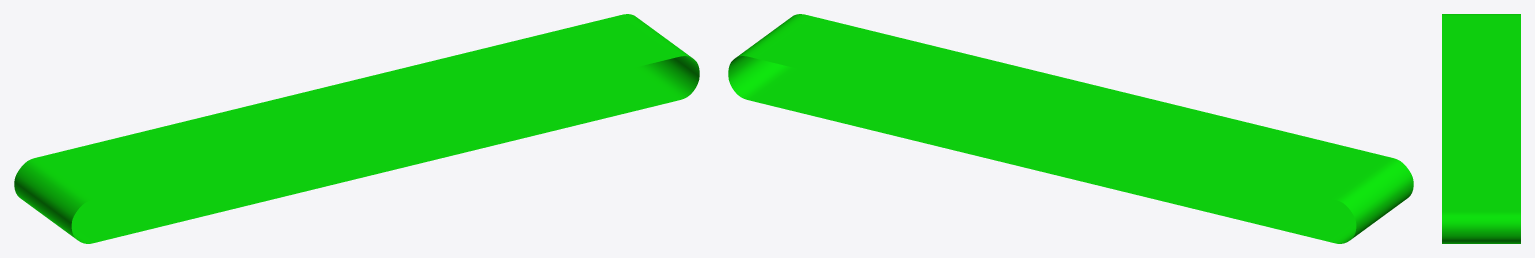
The model's file is esteira.fbx.
The picture shows the model from 3 angles, left to right: view 1: azimuth 30°, elevation 25°; view 2: azimuth 150°, elevation 25°; view 3: azimuth 270°, elevation 25°; orthographic projection. The views are drawn at different scales.
Visible parts, largest first — view 1: esteira; view 2: esteira; view 3: esteira.
Part boxes in pixels (x1,y1,x2,y2): esteira: [14, 14, 699, 243]; esteira: [728, 14, 1413, 243]; esteira: [1442, 14, 1520, 243].
Size of the model in its own units: 3.97 by 0.2632 by 0.6286.
